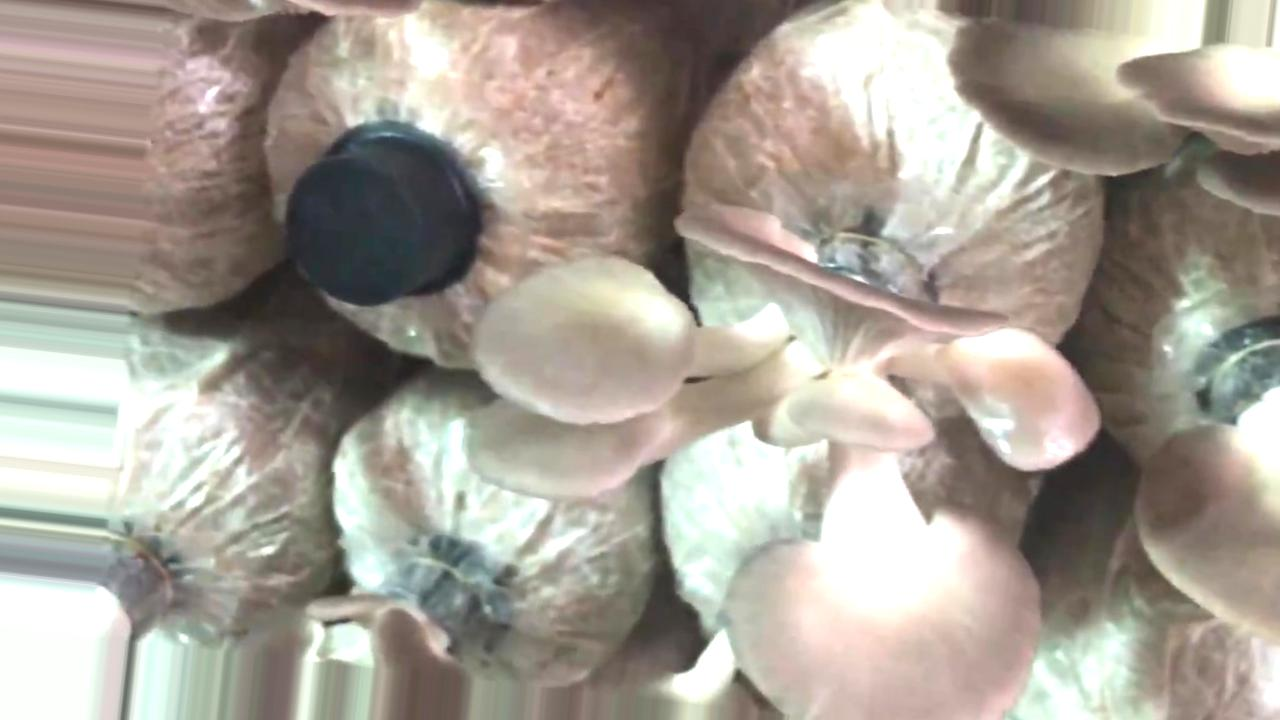nam: (463, 200, 1100, 720), (945, 24, 1280, 220), (1130, 321, 1280, 642)
